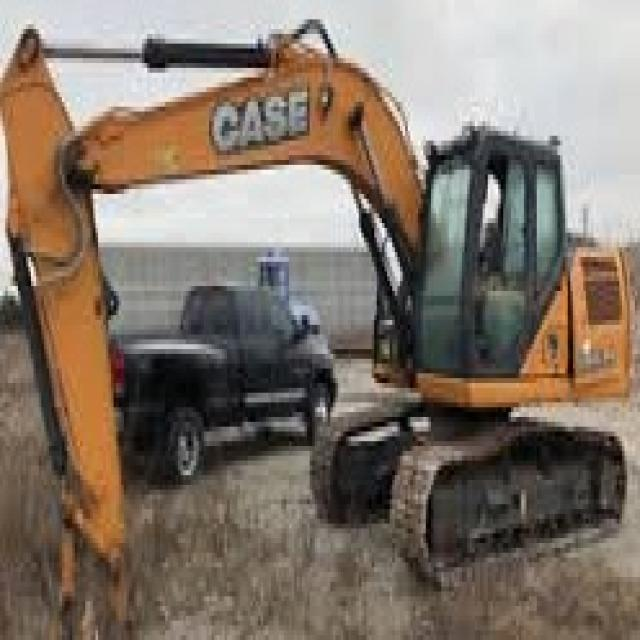excavator: (309, 109, 639, 589)
